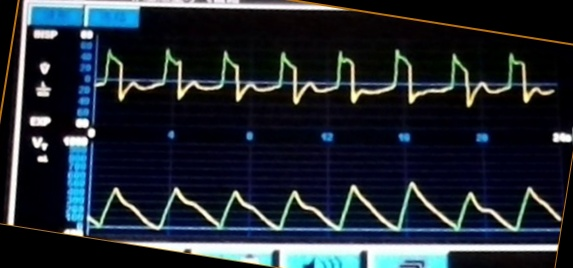Premature_cycling Flow: (100, 41, 554, 119)
Premature_cycling Volume: (95, 163, 559, 236)
